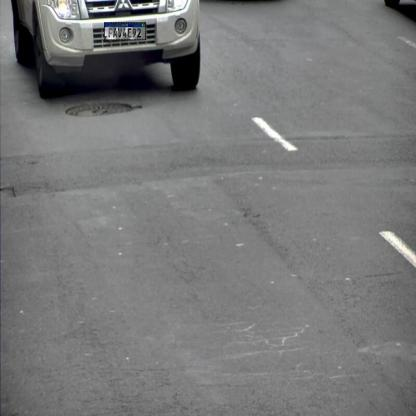PlacaM: (104, 22, 146, 40)
